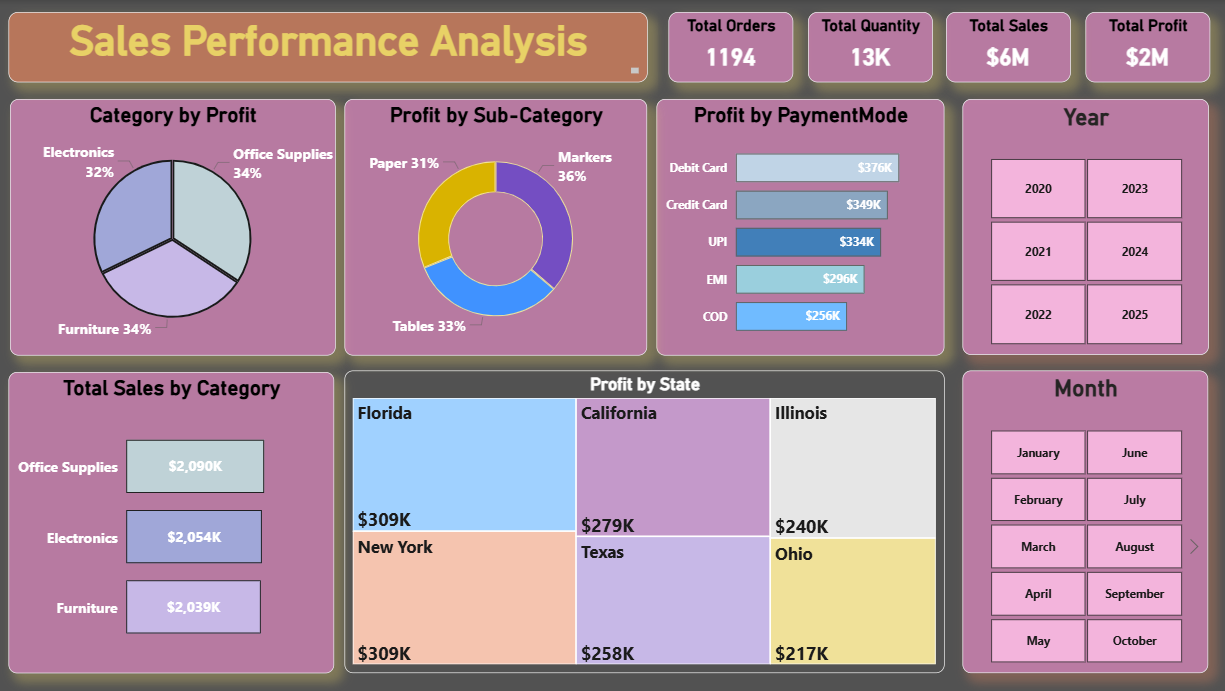

The page's visual inventory and layout, read from the dashboard file:
{"tool":"powerbi","page":{"name":"Page 1","canvas":[1280,720],"ordinal":0},"visuals":[{"type":"card","title":"Total Orders","fields":{"Values":["Sales Dataset.Total_orders"]},"box":[698.7,12.5,129.7,73.5],"z":3},{"type":"card","title":"Total Quantity","fields":{"Values":["Sum(Sales Dataset.Quantity)"]},"box":[844,12.5,129.7,73.5],"z":4},{"type":"card","title":"Total Profit","fields":{"Values":["Sum(Sales Dataset.Profit)"]},"box":[1133.2,12.5,129.7,73.5],"z":5},{"type":"card","title":"Total Sales","fields":{"Values":["Sum(Sales Dataset.Amount)"]},"box":[987.8,12.5,129.7,73.5],"z":6},{"type":"pieChart","title":"Category by  Profit","fields":{"Category":["Sales Dataset.Category"],"Y":["Sum(Sales Dataset.Profit)"]},"box":[12.5,103.2,339.2,267.3],"z":7},{"type":"clusteredBarChart","title":"Total Sales by Category","fields":{"Category":["Sales Dataset.Category"],"Y":["Sum(Sales Dataset.Amount)"]},"box":[10.9,387.6,339.2,314.2],"z":8},{"type":"textbox","title":"Sales Performance Analysis","box":[10.9,12.5,665.8,73.5],"z":9},{"type":"treemap","title":"Profit by State","fields":{"Group":["Sales Dataset.State"],"Values":["Sum(Sales Dataset.Profit)"]},"box":[361.7,386.7,625.3,315.5],"z":10},{"type":"clusteredBarChart","title":"Profit by PaymentMode","fields":{"Category":["Sales Dataset.PaymentMode"],"Y":["Sum(Sales Dataset.Profit)"]},"box":[686.8,103.9,300.1,267.4],"z":11},{"type":"donutChart","title":"Profit by Sub-Category","fields":{"Category":["Sales Dataset.Sub-Category"],"Y":["Sum(Sales Dataset.Profit)"]},"box":[361.7,103.9,315.5,267.4],"z":12},{"type":"slicer","title":"Year","fields":{"Values":["Sales Dataset.Order Date.Variation.Date Hierarchy.Year"]},"box":[1005.1,103.8,256.7,266.5],"z":13},{"type":"slicer","title":"Month","fields":{"Values":["Sales Dataset.Order Date.Variation.Date Hierarchy.Month"]},"box":[1005.3,386.4,256.3,315.4],"z":14}]}

Visuals, with their boxes in screenshot pixels (x1, y1, x2, y2), scaled from the page's 1280x720 canvas onto the 1225x691 screenshot:
"Total Orders" card: bbox=(669, 12, 793, 83)
"Total Quantity" card: bbox=(808, 12, 932, 83)
"Total Profit" card: bbox=(1085, 12, 1209, 83)
"Total Sales" card: bbox=(945, 12, 1069, 83)
"Category by  Profit" pieChart: bbox=(12, 99, 337, 356)
"Total Sales by Category" clusteredBarChart: bbox=(10, 372, 335, 674)
"Sales Performance Analysis" textbox: bbox=(10, 12, 648, 83)
"Profit by State" treemap: bbox=(346, 371, 945, 674)
"Profit by PaymentMode" clusteredBarChart: bbox=(657, 100, 944, 356)
"Profit by Sub-Category" donutChart: bbox=(346, 100, 648, 356)
"Year" slicer: bbox=(962, 100, 1208, 355)
"Month" slicer: bbox=(962, 371, 1207, 674)
